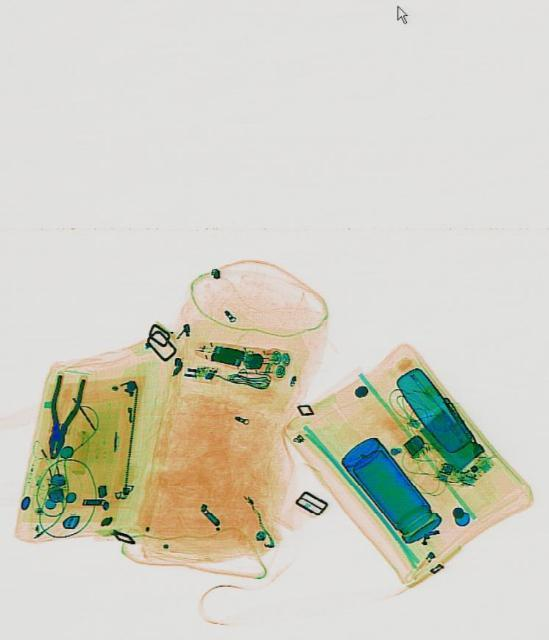Pliers: (36, 371, 83, 461)
